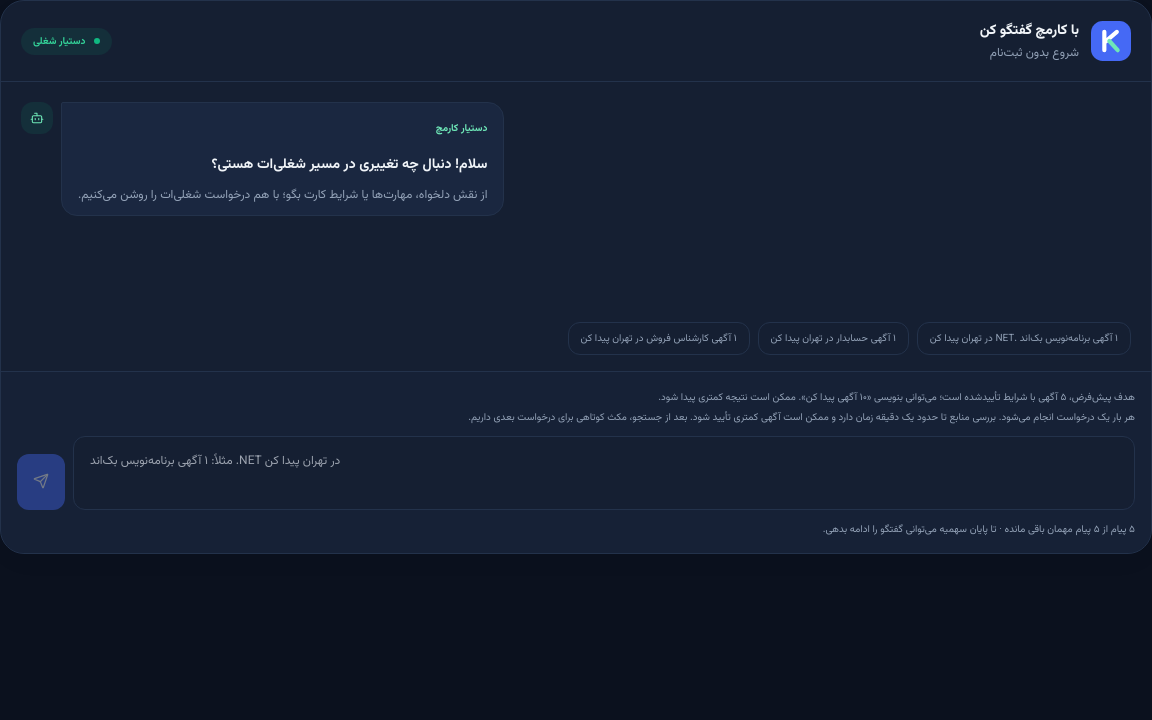
Test: Guest conversation › offers complete searchable examples with a role, location, and count
Click the button "۱ آگهی برنامه‌نویس بک‌اند .NET در تهران پیدا کن" at (1024, 338), box [917, 322, 1131, 355]
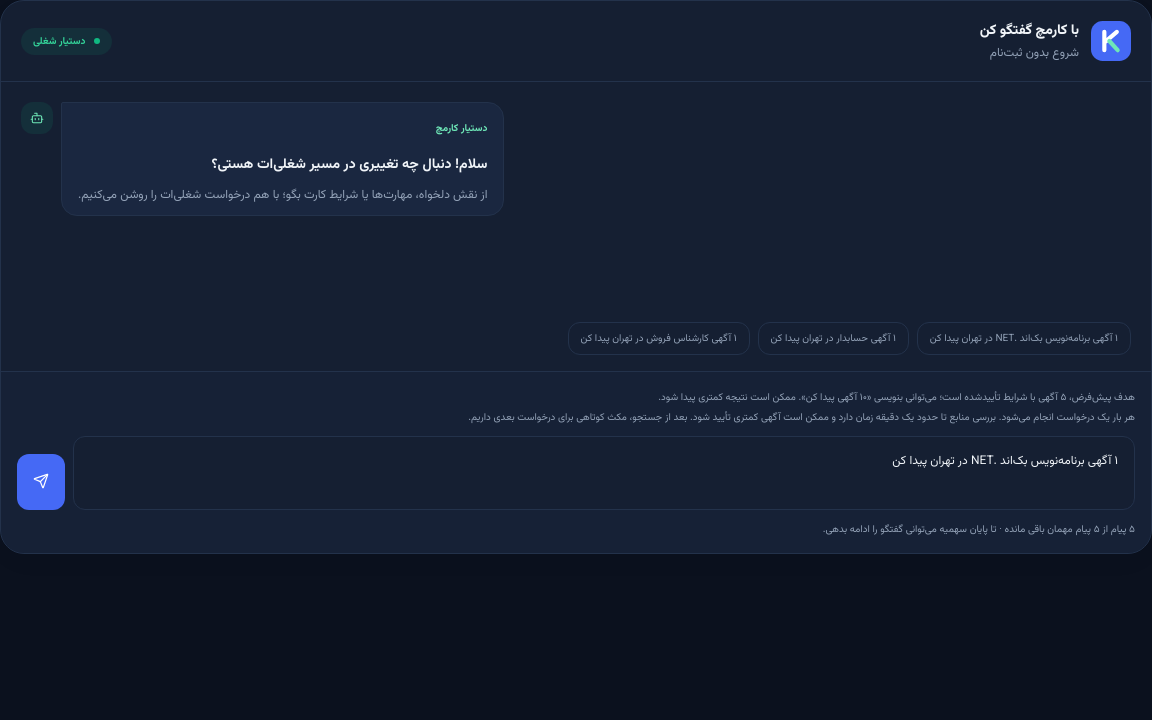
Expected: the text box named "پیام شما" holds "۱ آگهی برنامه‌نویس بک‌اند .NET در تهران پیدا کن", [73, 436, 1135, 510]
